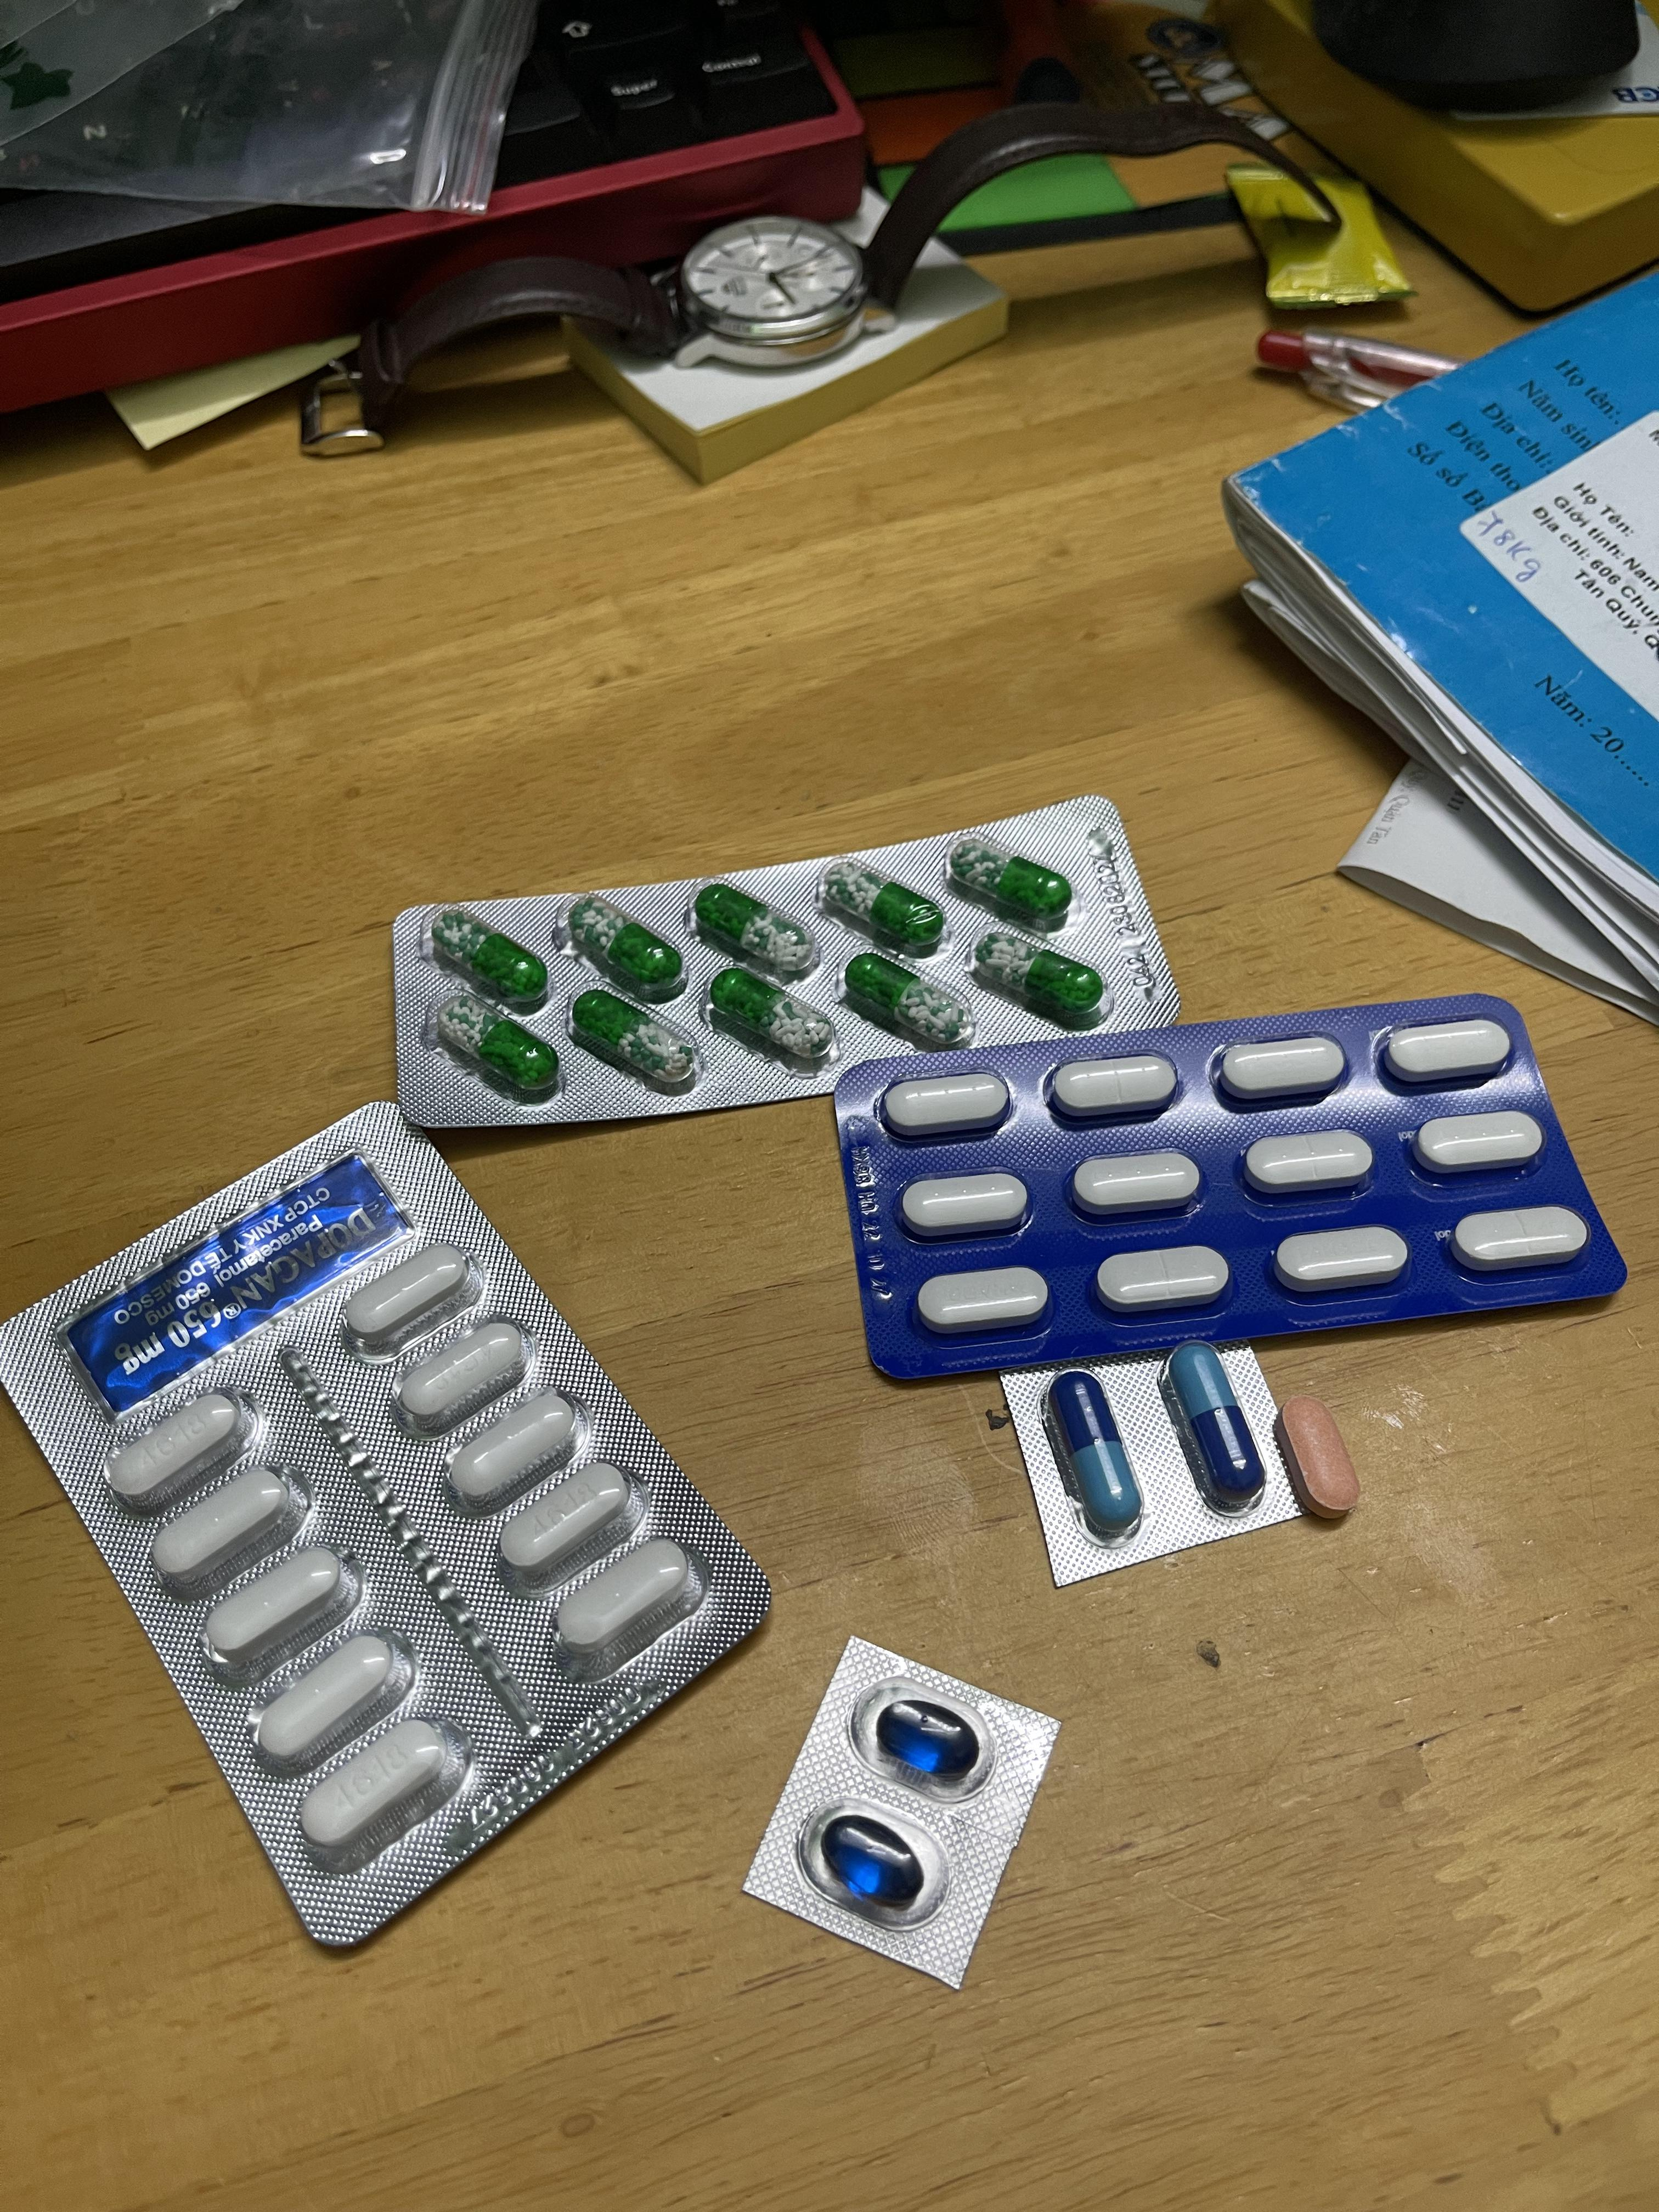Lincomyxin_500mg: (819, 1815, 927, 1904), (878, 1700, 981, 1777)
Loratadine_10mg: (1277, 1397, 1359, 1514)
Paracetamol_350mg: (915, 1266, 1051, 1334), (1096, 1244, 1230, 1312), (1274, 1224, 1410, 1291), (880, 1073, 1012, 1139), (1452, 1205, 1588, 1270), (1049, 1054, 1180, 1120), (897, 1172, 1030, 1237), (1243, 1129, 1373, 1193), (1216, 1036, 1347, 1101), (1415, 1108, 1544, 1172), (1070, 1151, 1201, 1214), (1382, 1019, 1511, 1082)
Paracetamol_500mg: (298, 1719, 457, 1858), (551, 1534, 704, 1677), (146, 1463, 307, 1595), (251, 1632, 406, 1768), (106, 1390, 249, 1512), (197, 1547, 356, 1656), (389, 1317, 533, 1437), (491, 1461, 631, 1580), (448, 1393, 584, 1505), (335, 1245, 471, 1345)
Paracetamol_650mg: (570, 988, 697, 1089), (432, 996, 558, 1094), (565, 895, 681, 995), (429, 906, 549, 1001), (708, 967, 830, 1061), (843, 951, 967, 1043), (972, 932, 1105, 1017), (821, 862, 945, 951), (697, 885, 817, 974), (950, 838, 1072, 921)
pill: (1166, 1346, 1263, 1500), (1049, 1374, 1140, 1533)
